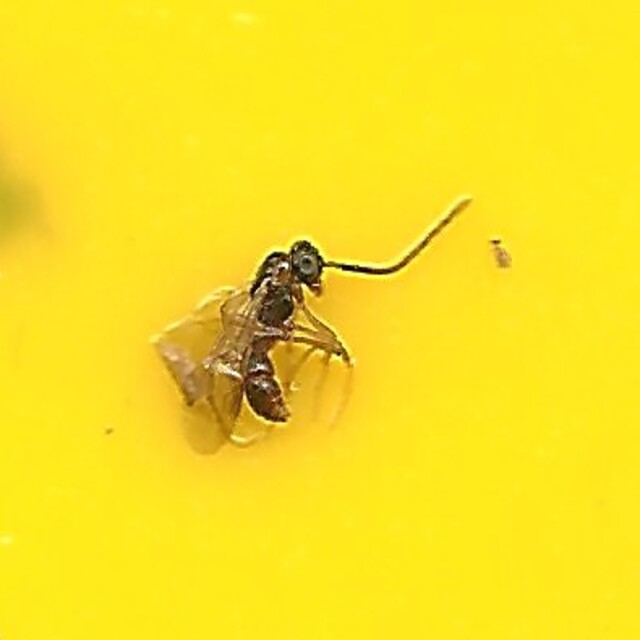Hymenoptera: (162, 189, 478, 451)
